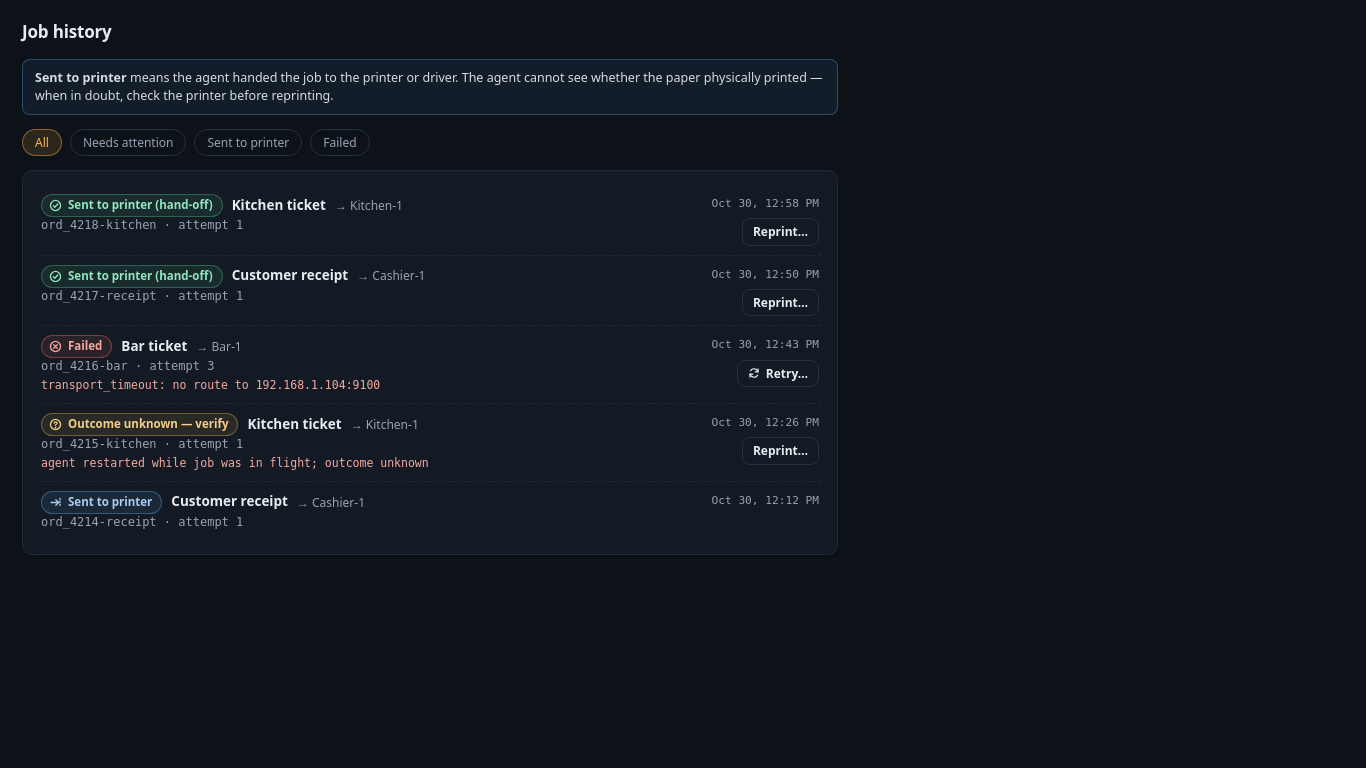
Scenario: JobHistoryScreen › retries a failed job after confirmation and shows the new status
Expected: the text "transport_timeout: no route to 192.168.1.104:9100" is shown, [41, 378, 380, 394]
Expected: the list item "transport_timeout" is shown, [41, 378, 380, 392]
Click the button "Retry…": click(778, 373) [737, 360, 819, 387]
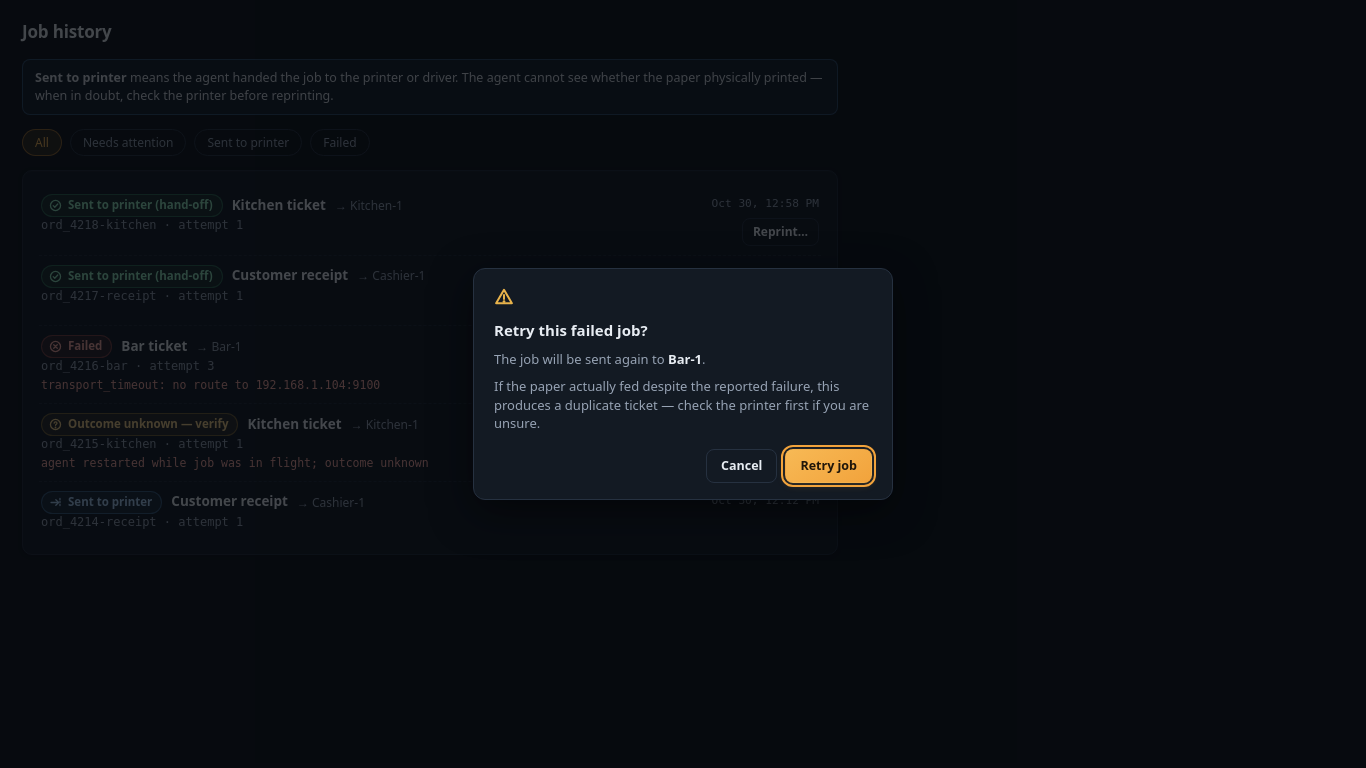
Click the button "Retry job": click(829, 466) [785, 449, 872, 483]
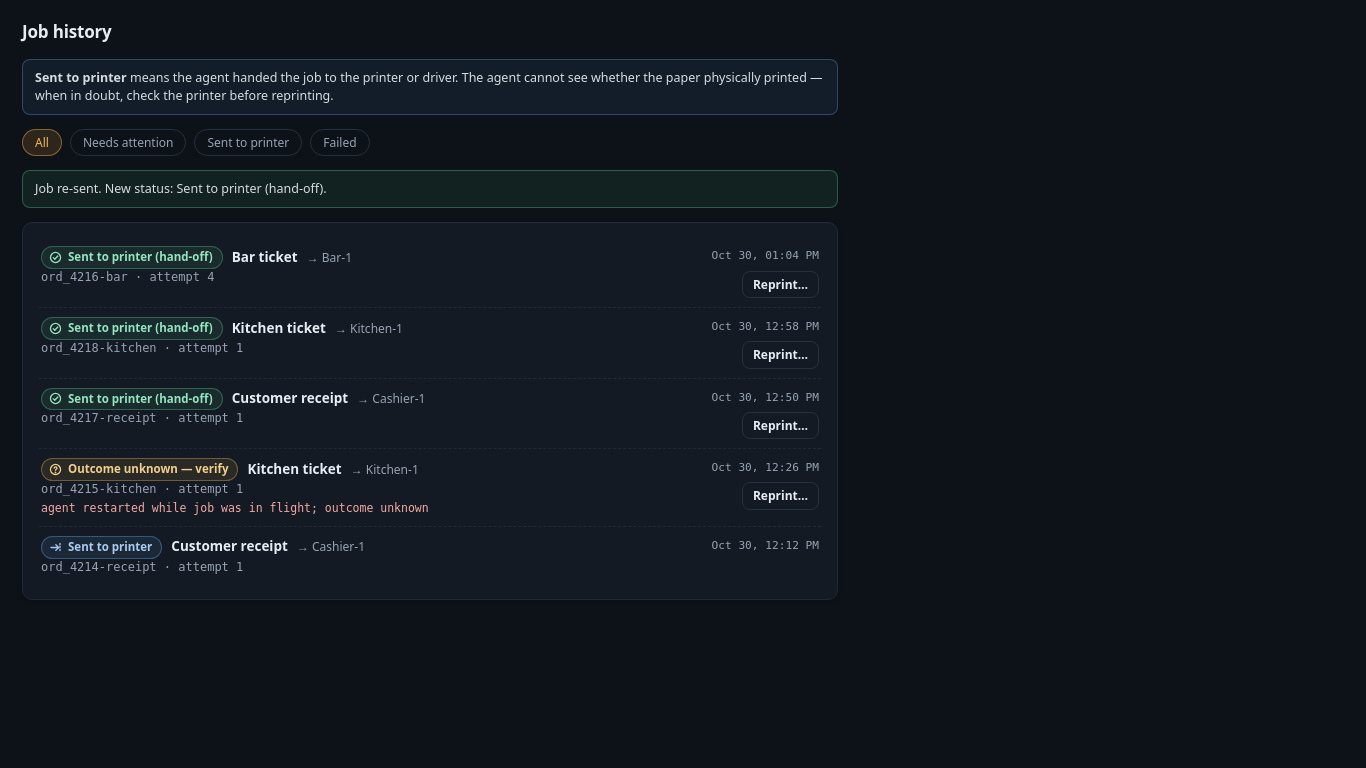
Result: the message shows "re-sent" at [35, 180, 327, 197]
